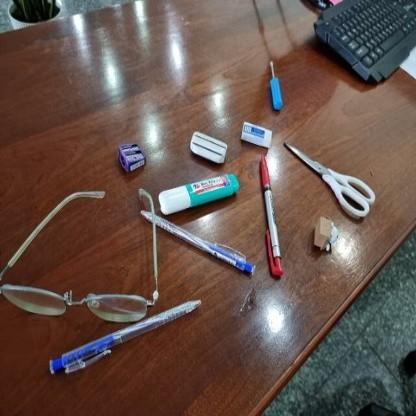not trash: (2, 186, 163, 326), (41, 300, 204, 378), (278, 136, 376, 220), (136, 209, 253, 272), (256, 160, 282, 276), (158, 176, 239, 212), (183, 130, 233, 166), (262, 58, 290, 116), (304, 212, 341, 254), (238, 120, 273, 153), (116, 142, 150, 173)
